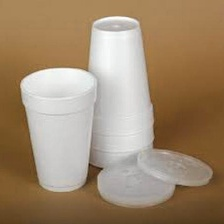paper_cup: (77, 10, 159, 174), (16, 62, 103, 195)
